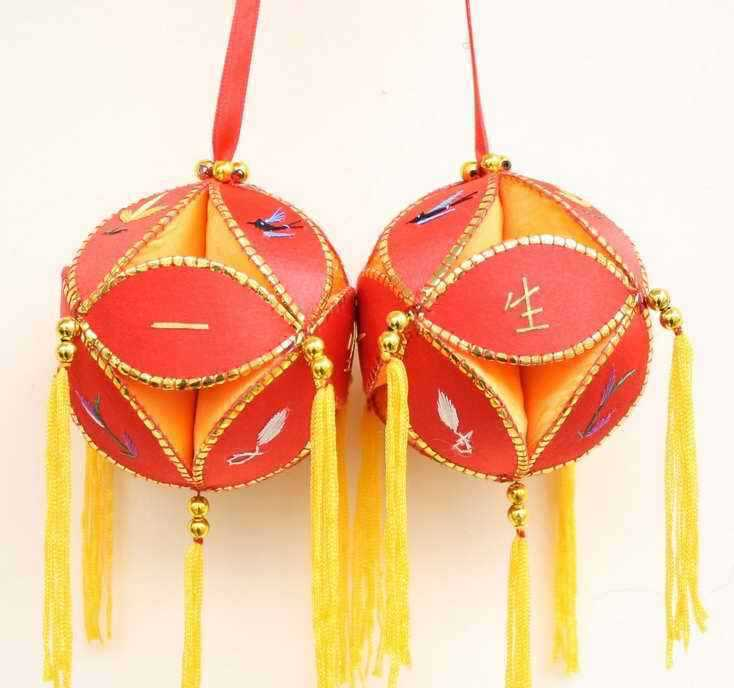xiuqiu: (357, 168, 650, 484), (59, 181, 355, 493)
